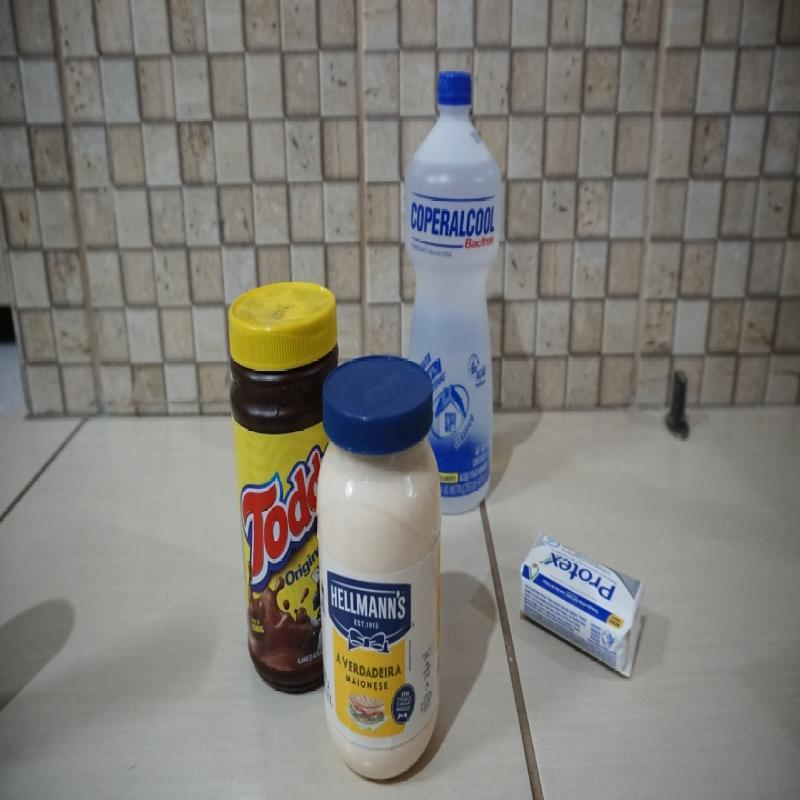Alcohol Bottle: (403, 69, 503, 520)
Chocolate Powder: (225, 280, 346, 698)
Mayonnaise: (316, 351, 446, 785)
Soap: (519, 532, 644, 684)
